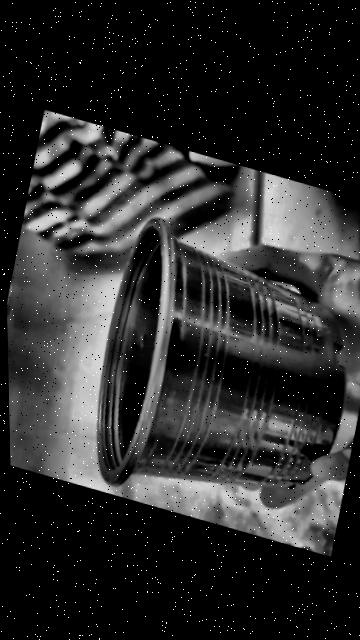pot: (71, 204, 360, 546)
